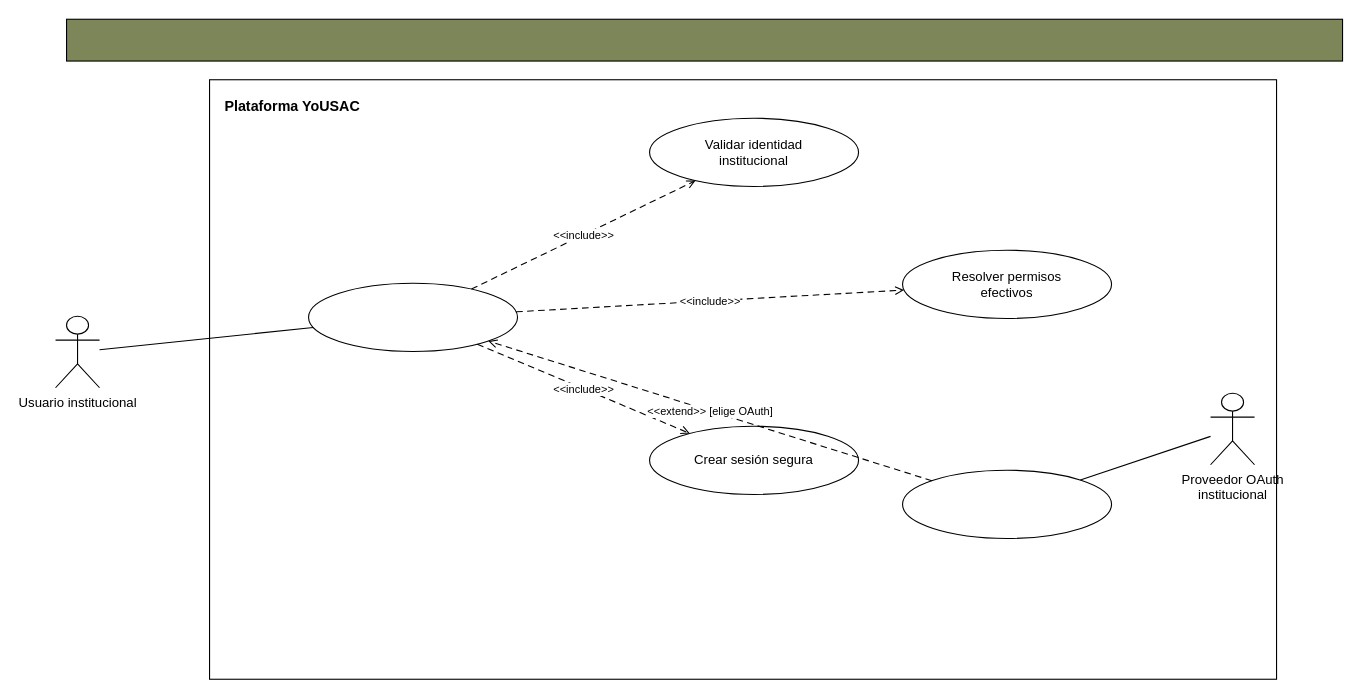
Image size: 1362x699. Some labels were removed from this diagram. The centre of each missing label's shape, as x and y in pixels:
Autenticarse mediante OAuth: pixel 1006 503
Iniciar sesión institucional: pixel 412 316
Plataforma YoUSAC — CU-AU-02 — Iniciar sesión institucional: pixel 704 39
